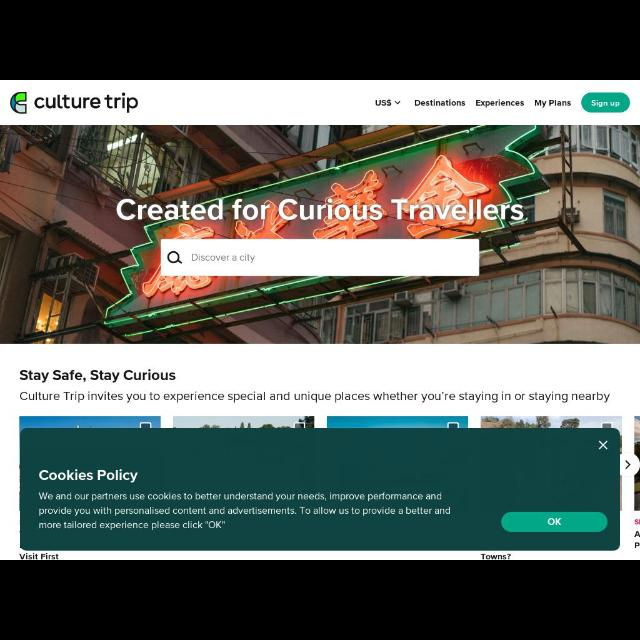backgroundimage: (1, 125, 639, 343)
icon: (167, 250, 183, 266), (598, 436, 610, 452), (624, 458, 632, 470), (395, 98, 401, 104)
image: (9, 90, 139, 114)
input: (160, 239, 480, 277)
spinner: (371, 95, 405, 109)
text: (38, 490, 452, 532), (114, 193, 526, 223), (20, 388, 612, 406), (18, 366, 178, 384), (38, 467, 138, 483), (474, 95, 526, 108), (412, 95, 468, 107), (190, 252, 256, 262), (534, 96, 572, 108), (18, 551, 59, 559), (590, 99, 624, 107), (545, 515, 565, 527), (480, 552, 510, 560), (374, 98, 392, 106)
textbutton: (500, 509, 610, 535), (581, 93, 633, 113)
toolbar: (1, 80, 639, 124)
